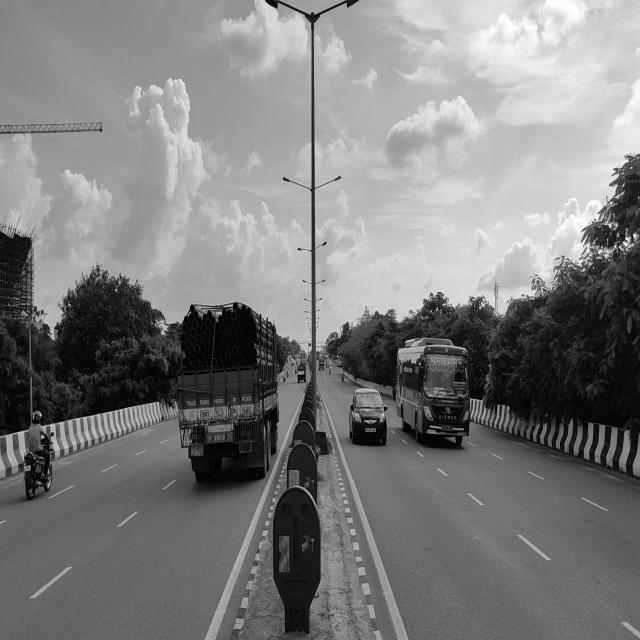bike: (22, 436, 54, 500)
bus: (394, 335, 475, 452)
car: (348, 388, 388, 455)
truck: (174, 298, 282, 485)
